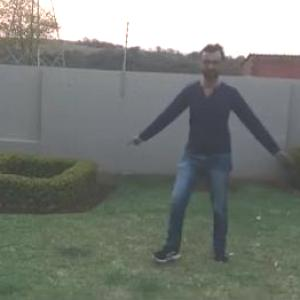land: (154, 53, 269, 222)
